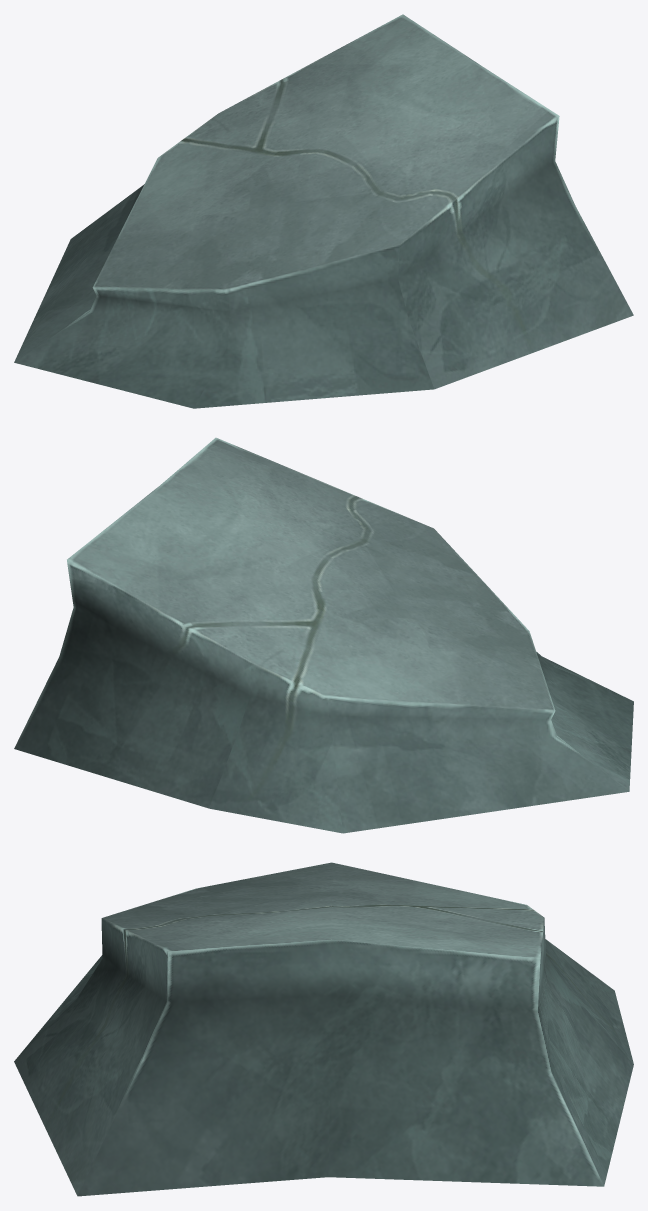
File: Rock 5.fbx
The picture shows the model from 3 angles, top to bottom: view 1: azimuth 30°, elevation 25°; view 2: azimuth 150°, elevation 25°; view 3: azimuth 270°, elevation 25°; orthographic projection. The views are drawn at different scales.
Visible parts, largest first — view 1: pPlane1; view 2: pPlane1; view 3: pPlane1.
Part boxes in pixels (x1,y1,x2,y2): pPlane1: (14,14,633,408); pPlane1: (14,437,633,833); pPlane1: (14,862,633,1196).
Size of the model in its own units: 6.12 by 2.11 by 5.22.
